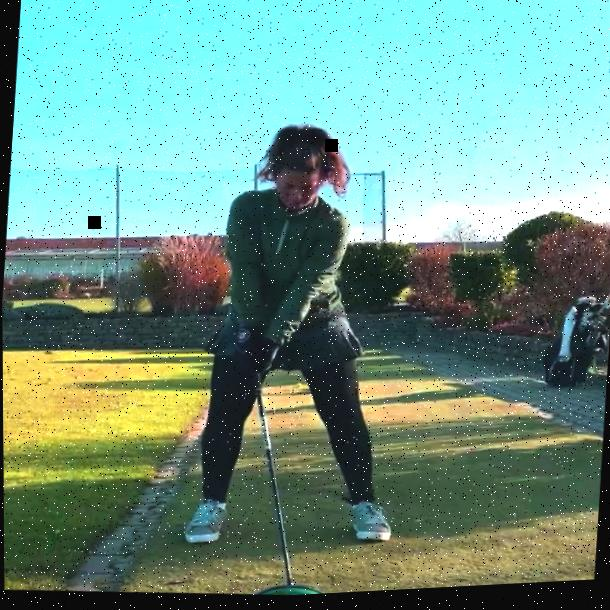ClubHead: (286, 586, 312, 598)
